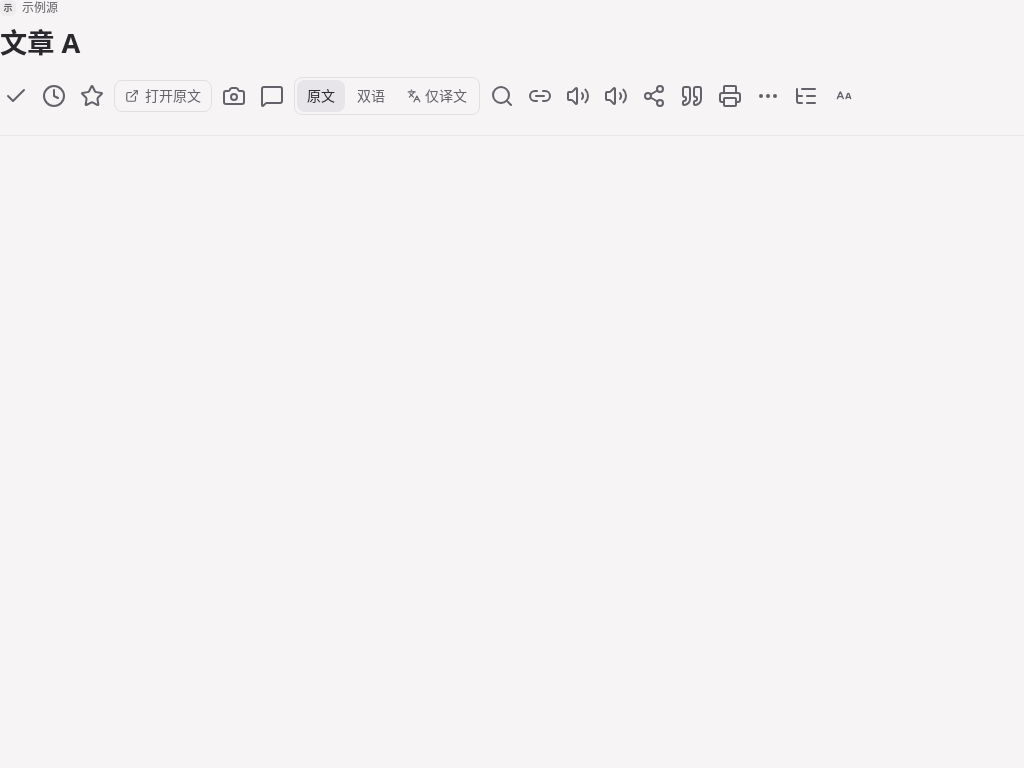
Test: P07 — 自定义工具栏对话框 › 移动端 Tab：primary 标记「工具栏」、其余「菜单」；独立开关状态
Click the button named "更多操作". click: (768, 96)
box: x1=752 y1=80 x2=784 y2=112
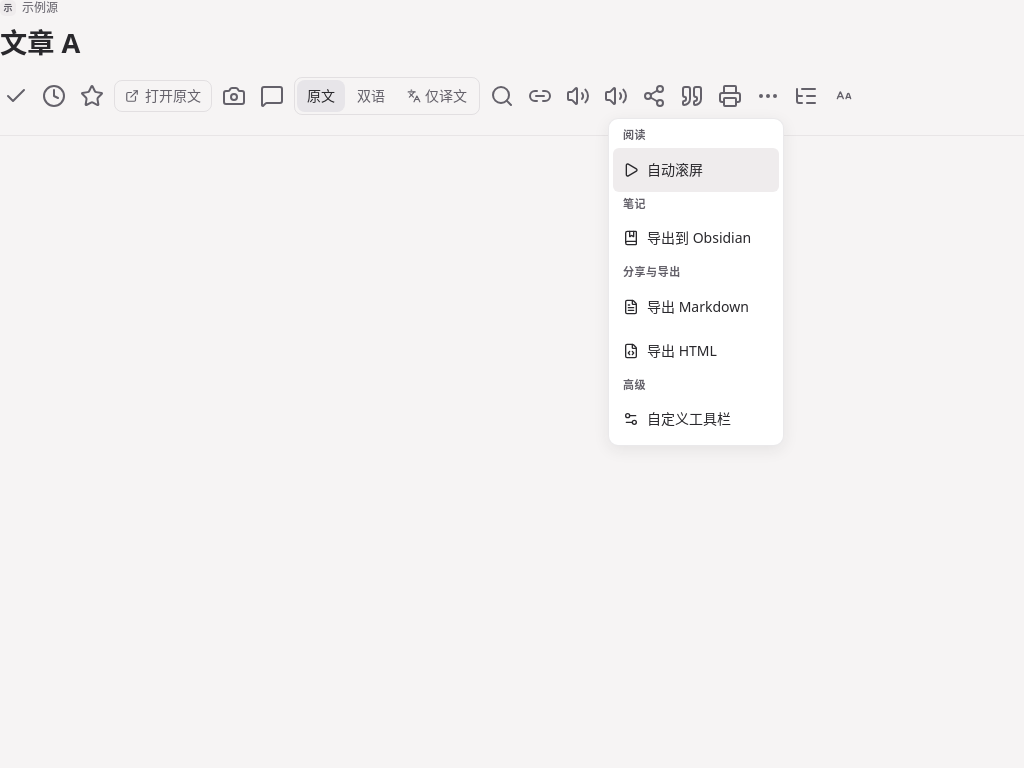
Click the menu item "自定义工具栏". click: (677, 418)
box: x1=623 y1=409 x2=731 y2=428
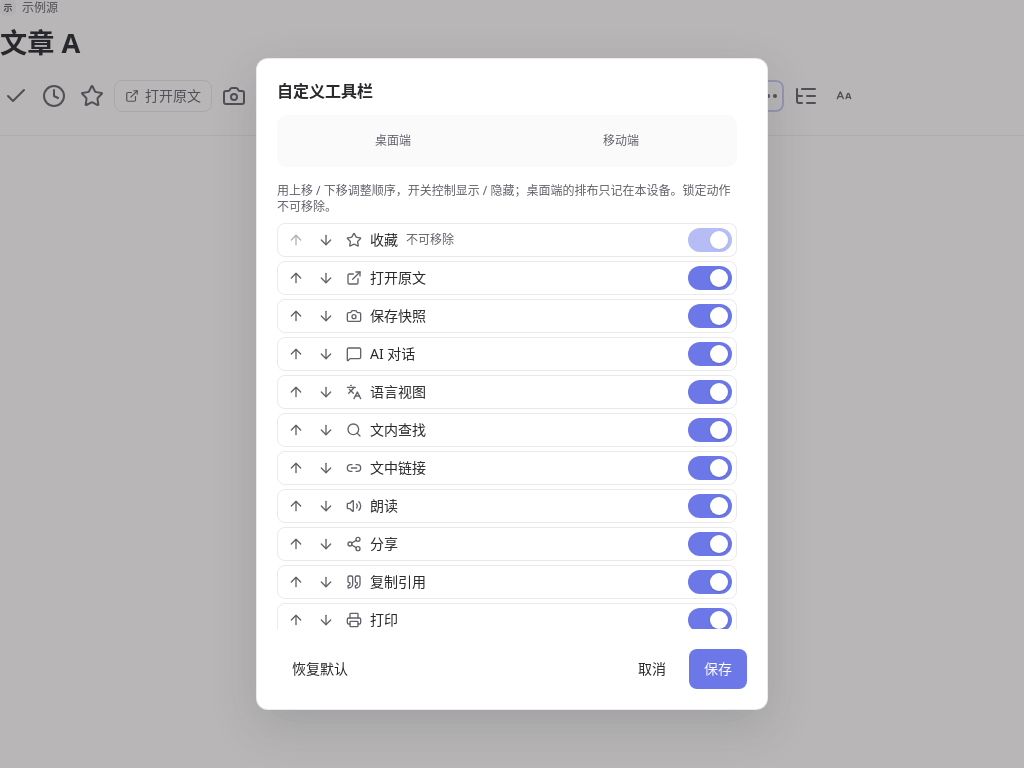
Click the tab "移动端". click: (621, 141)
box: x1=509 y1=119 x2=733 y2=163
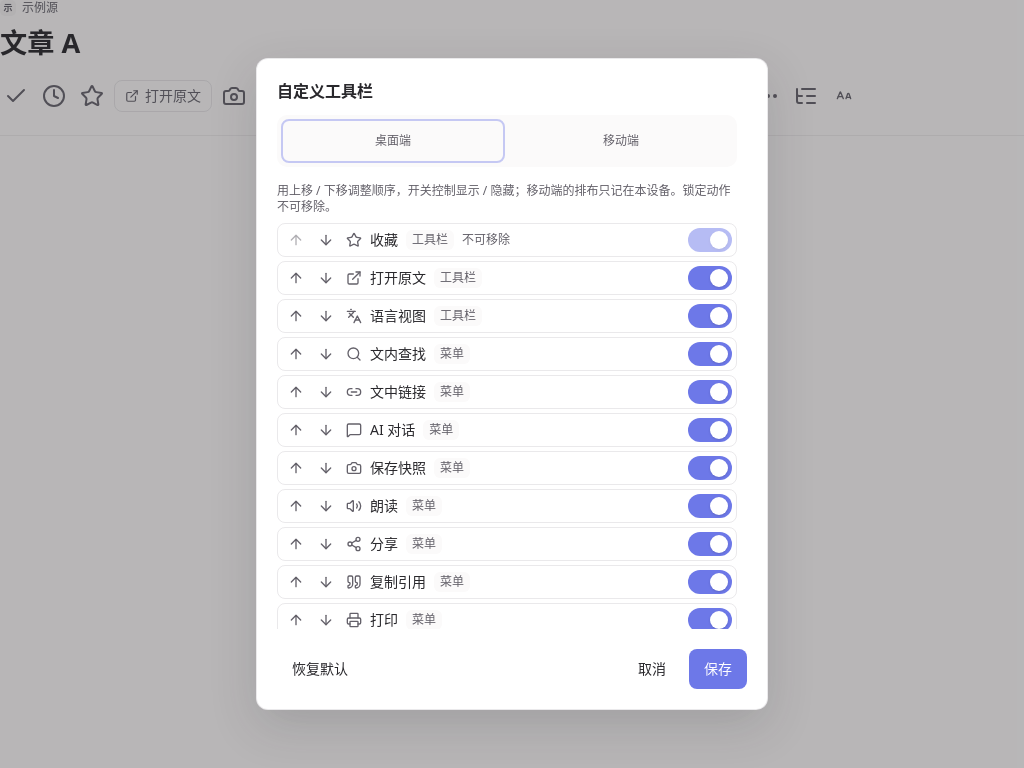
expect the switch named "显示打印" is checked: met, box x1=688 y1=608 x2=732 y2=629
expect the text "工具栏" is shown 4 times: met
expect the text "菜单" is shown 10 times: met
